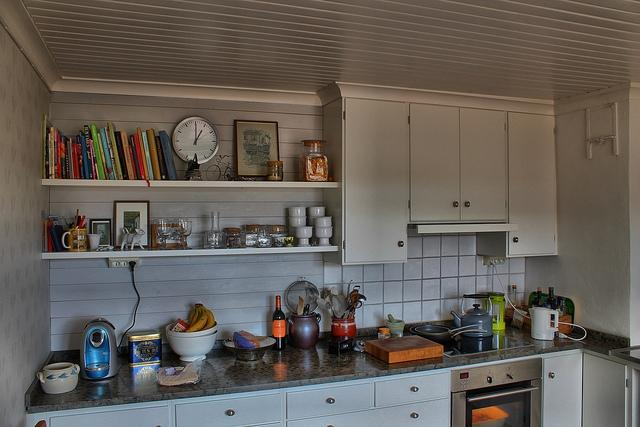banana: (199, 304, 215, 332), (190, 306, 199, 328)
